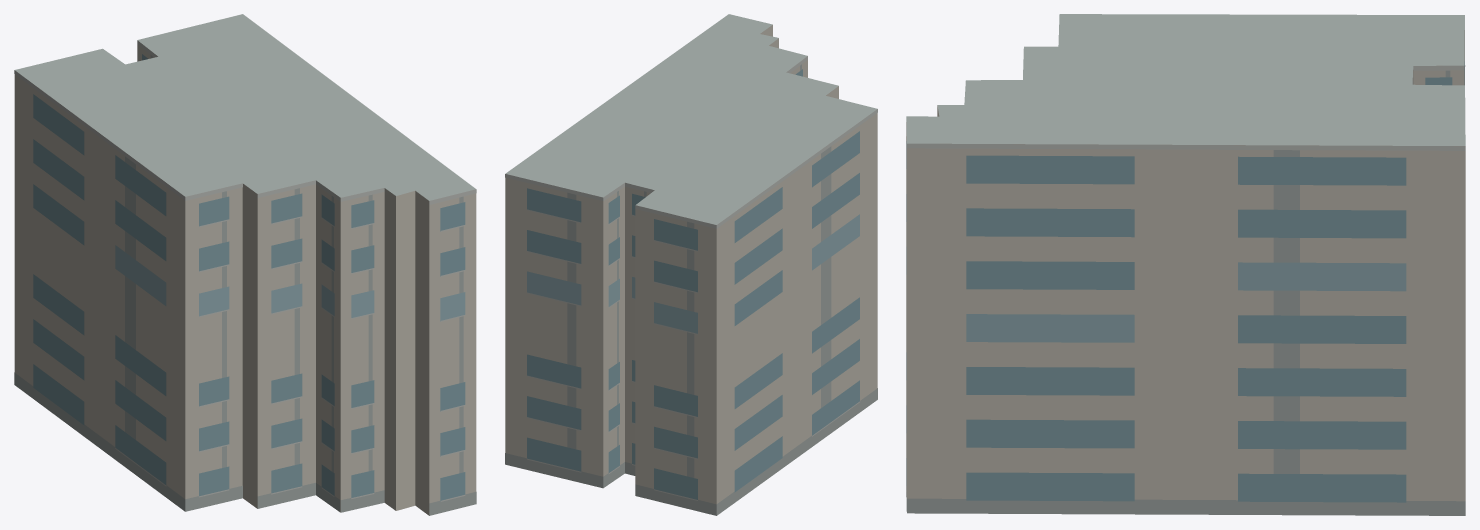
Rendered from survey-upis-32690847.glb.
3 renders of one model, left to right at view 1: azimuth 30°, elevation 25°; view 2: azimuth 150°, elevation 25°; view 3: azimuth 270°, elevation 25°, orthographic. The views are drawn at different scales.
Parts seen in each view (by area): view 1: survey-upis-32690847.tmp; view 2: survey-upis-32690847.tmp; view 3: survey-upis-32690847.tmp.
Part boxes in pixels (x1,y1,x2,y2): survey-upis-32690847.tmp: (14, 14, 476, 515); survey-upis-32690847.tmp: (505, 14, 877, 515); survey-upis-32690847.tmp: (906, 14, 1465, 515).
Bounding box in the file's own units: 14.38 × 18.75 × 25.72.
